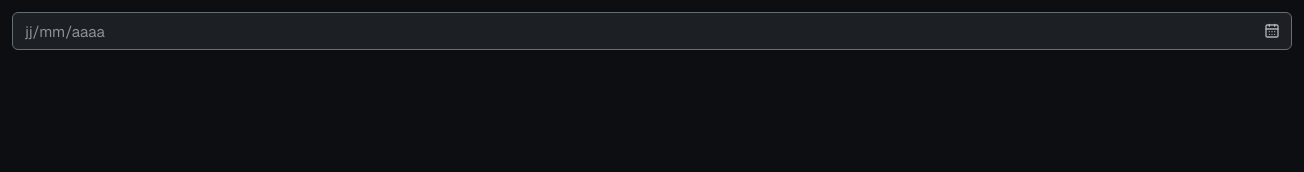
Test: DateField › « 14102026 » est formaté et émis une seule fois (pas de change natif du champ visible)
This screenshot has width=1304, height=172.
Later steps or results of the test are not shown.
Type "14102026" into the field named "Jour" at (652, 31), box [12, 12, 1292, 50]
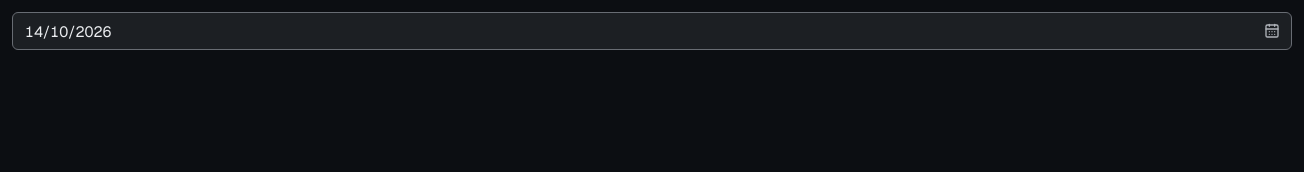
Now the field named "Jour" holds "14/10/2026", box [12, 12, 1292, 50]
